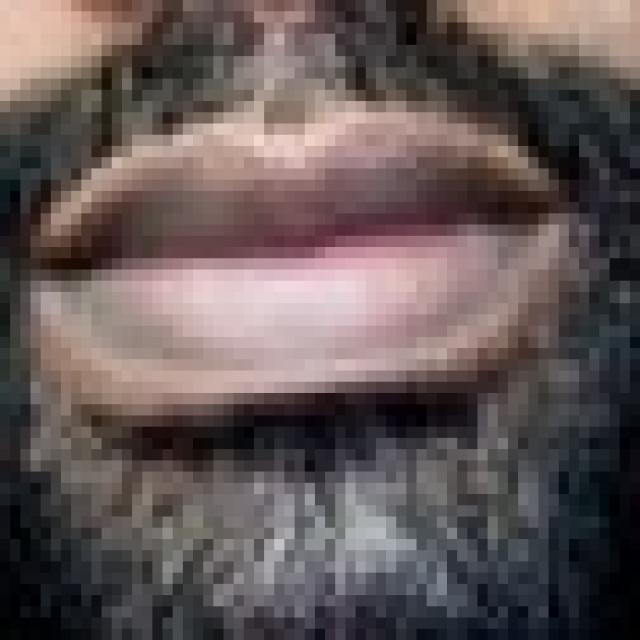closed-mouth: (10, 90, 579, 438)
